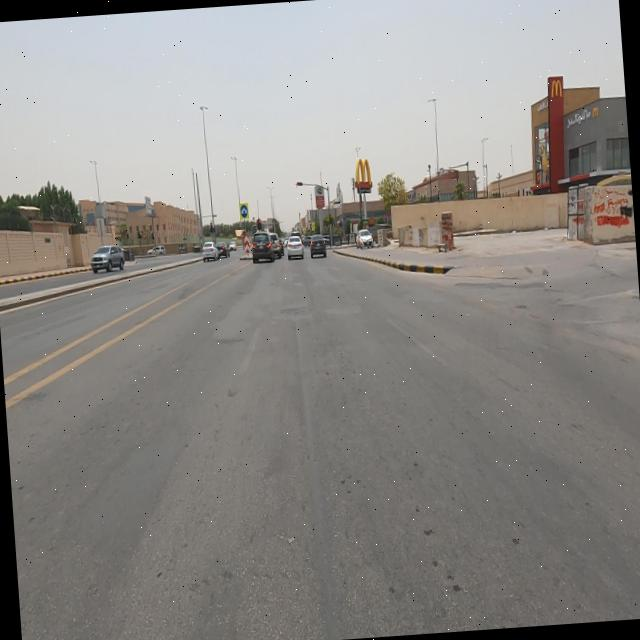Graffiti: (591, 185, 635, 229), (570, 192, 586, 230), (442, 215, 454, 244)
